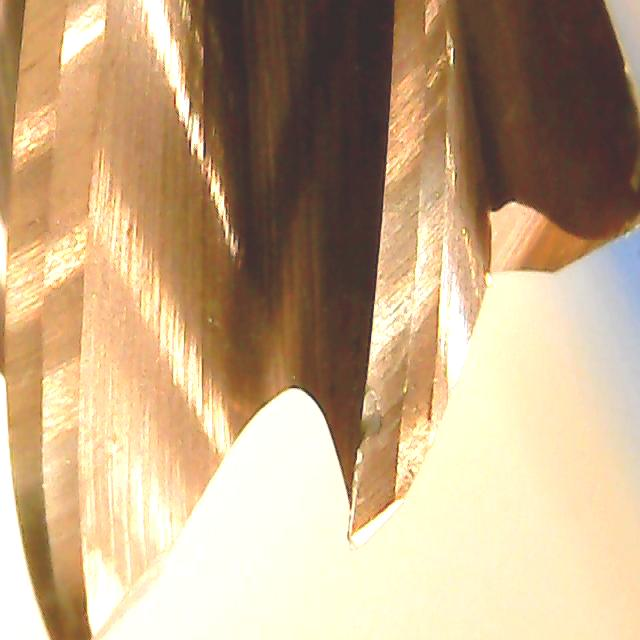Tool-wear-class-1: (323, 246, 476, 551)
